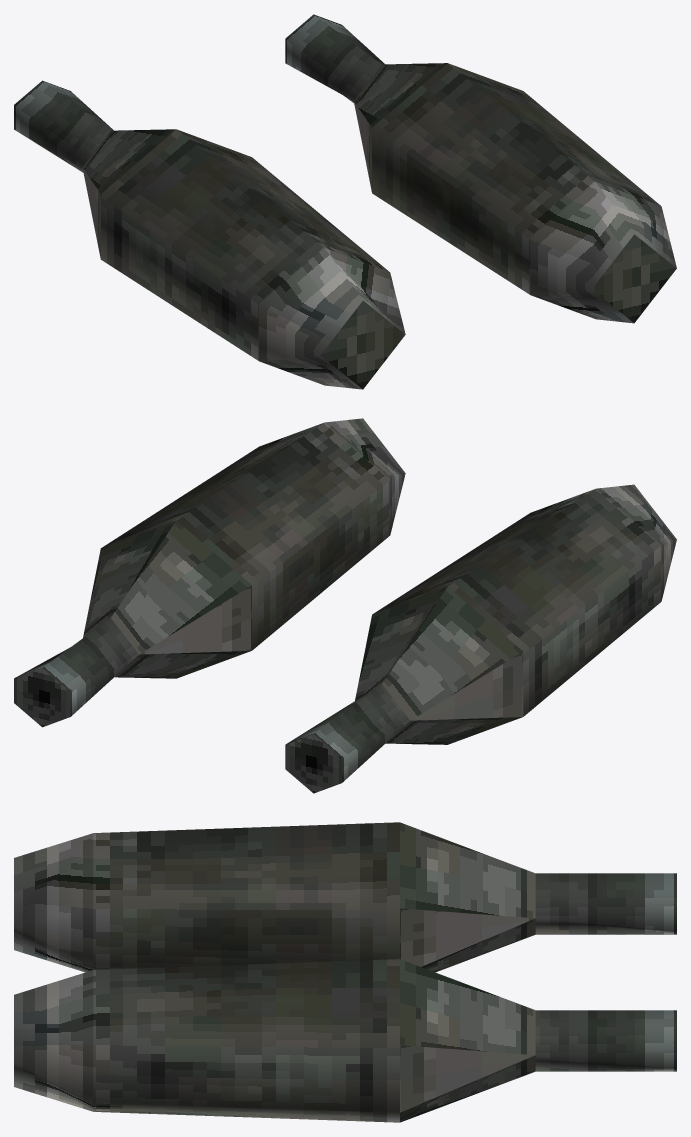
File: black_sun_fighter_heavy_booster_s01_l3.fbx
3 renders of one model, top to bottom at view 1: azimuth 30°, elevation 25°; view 2: azimuth 150°, elevation 25°; view 3: azimuth 270°, elevation 25°, orthographic. The views are drawn at different scales.
Parts seen in each view (by area): view 1: mesh_node; view 2: mesh_node; view 3: mesh_node.
Boxes of the visible parts, x1,y1,x2,y2 form: mesh_node: (14, 14, 676, 389); mesh_node: (14, 418, 676, 793); mesh_node: (14, 822, 676, 1122).
Size of the model in its own units: 3.87 by 1.39 by 5.09.
Materials: 1 (1 with a texture image).
